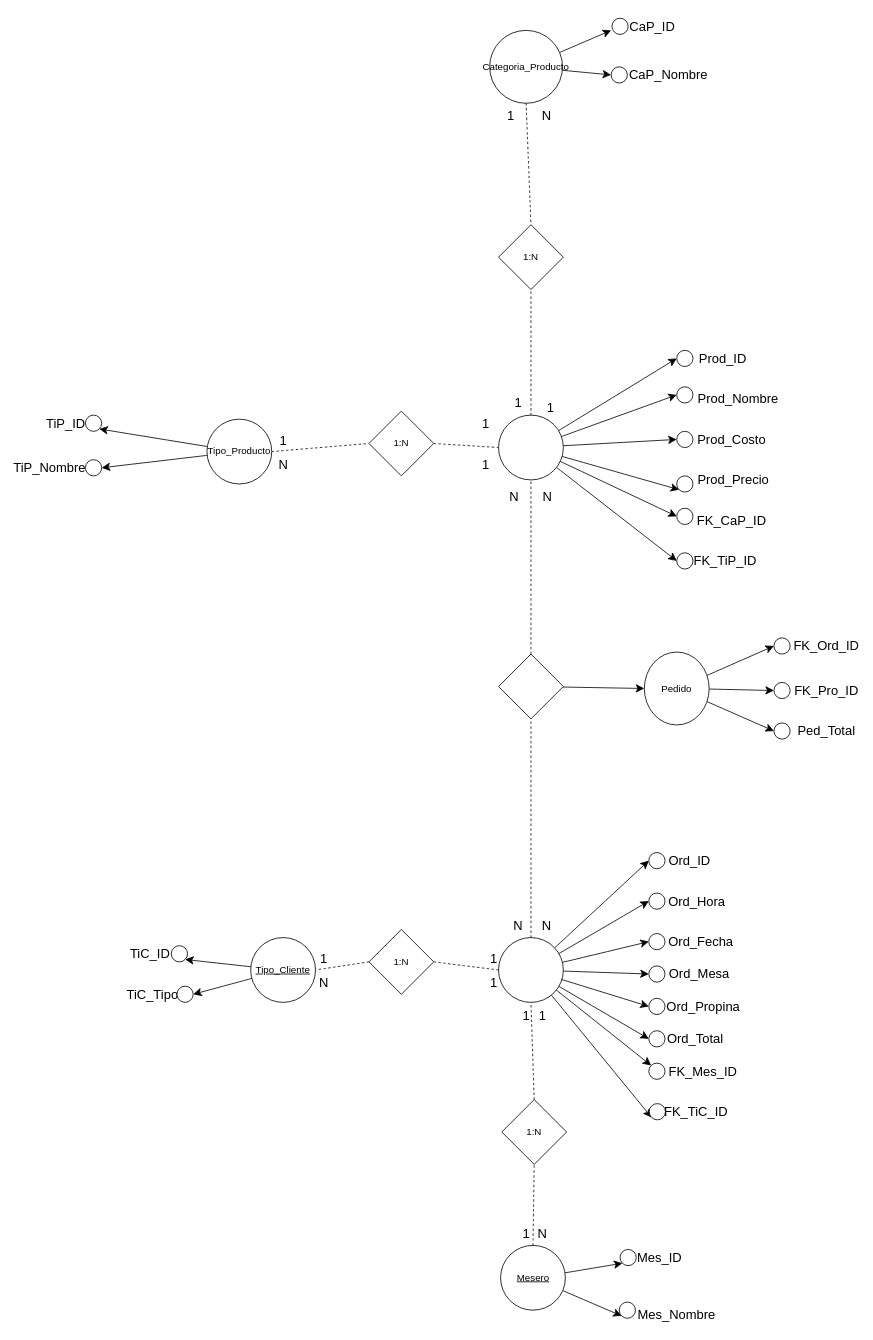
The diagram is 873 pixels wide and 1340 high, and some of its shapes have lost their labels. Each missing label, with the box of its shape:
N:N: (498, 653, 563, 719)
Orden: (498, 937, 563, 1002)
Producto: (498, 414, 563, 480)
